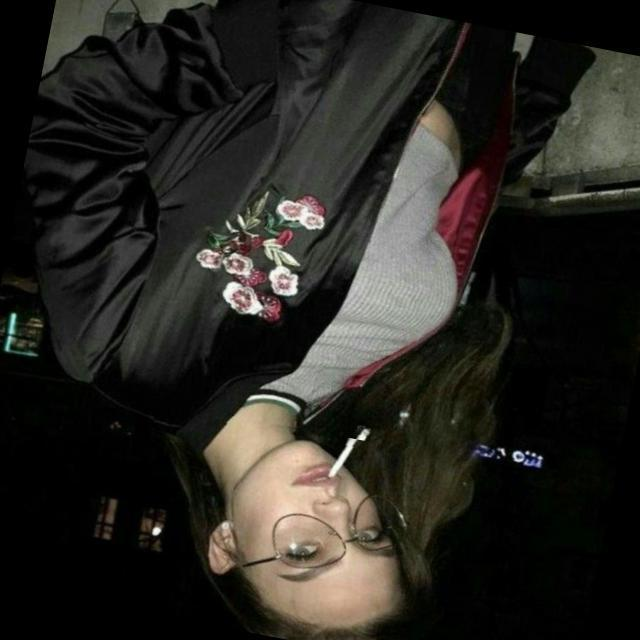cigarette: (310, 418, 372, 492)
